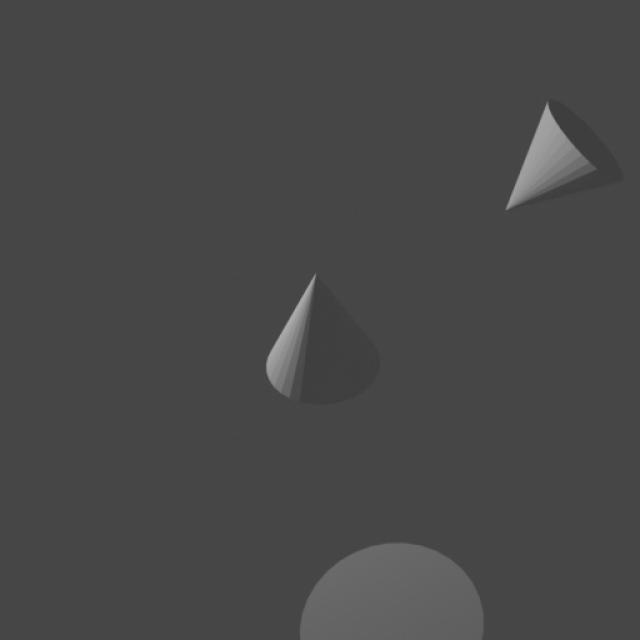Cone: (301, 542, 482, 640), (266, 274, 380, 405), (506, 100, 622, 210)
